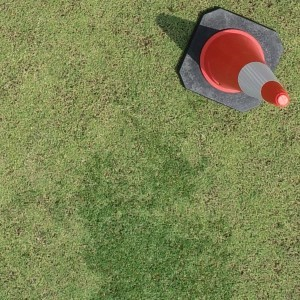traffic cone: (178, 8, 289, 112)
